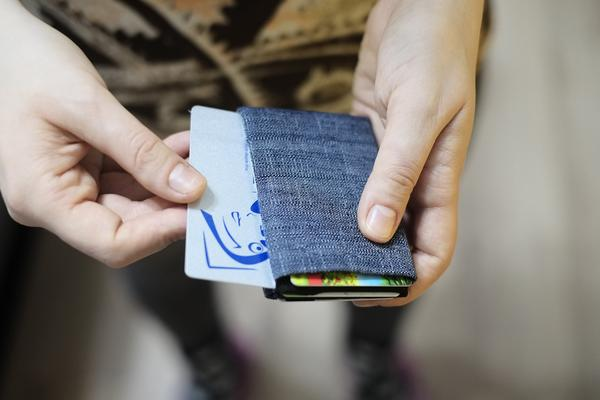monedero: (236, 104, 421, 304)
